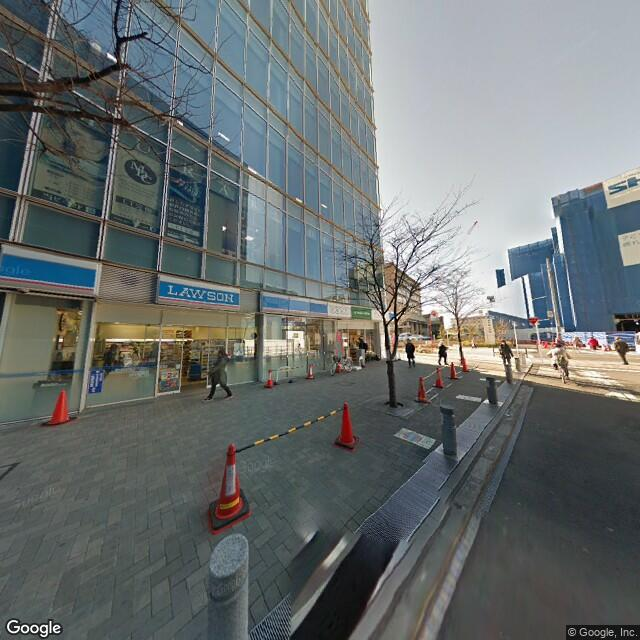lawson: (157, 269, 236, 310)
